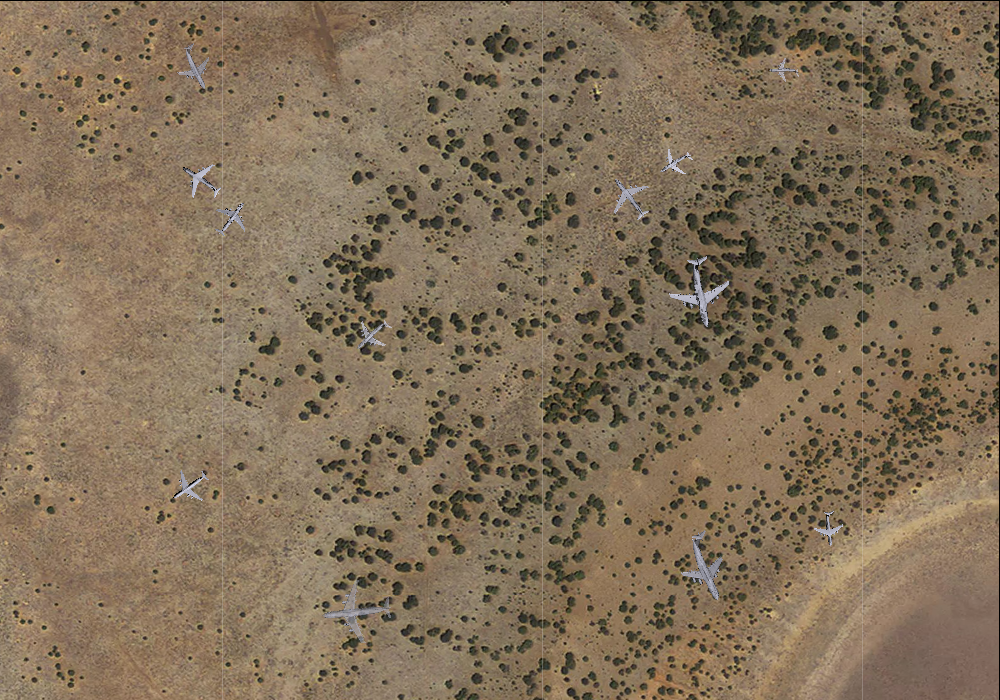plane: (665, 522, 748, 610), (661, 250, 741, 333), (318, 576, 394, 648), (598, 165, 661, 230), (166, 35, 225, 97), (170, 150, 230, 210), (344, 307, 400, 363), (162, 459, 217, 513), (204, 191, 257, 245), (652, 139, 699, 186), (811, 509, 848, 548), (769, 56, 799, 85)
